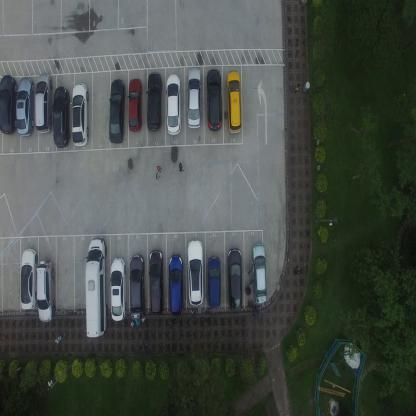car: (84, 236, 108, 337), (36, 258, 55, 324), (186, 238, 204, 306), (71, 81, 89, 147), (226, 246, 243, 313), (108, 78, 125, 145), (52, 85, 70, 148), (16, 75, 34, 138), (148, 247, 164, 317), (0, 74, 18, 136), (20, 247, 37, 311), (35, 72, 52, 135), (226, 70, 242, 135), (206, 68, 222, 133), (186, 65, 202, 130), (129, 253, 145, 318), (110, 257, 126, 322), (165, 73, 181, 135), (146, 71, 162, 132), (168, 254, 183, 317), (251, 245, 267, 304), (206, 255, 221, 308), (128, 77, 142, 132)
